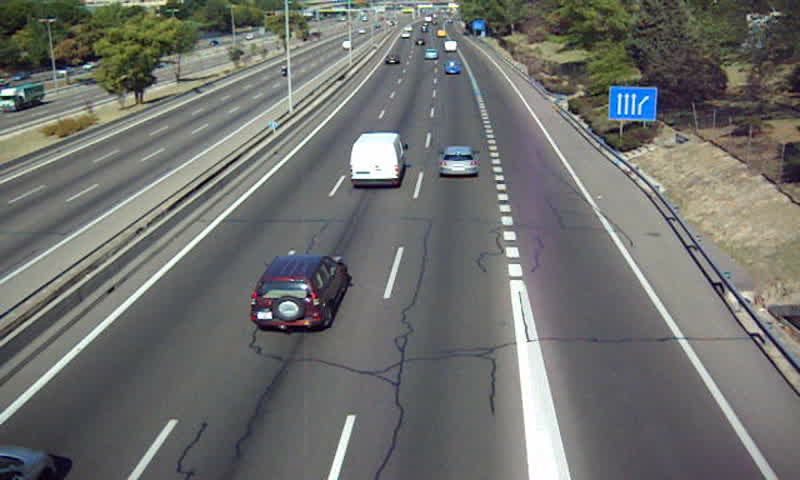car: (251, 258, 345, 331), (440, 147, 478, 176), (443, 59, 462, 75), (385, 54, 400, 66)
van: (351, 133, 405, 188)
